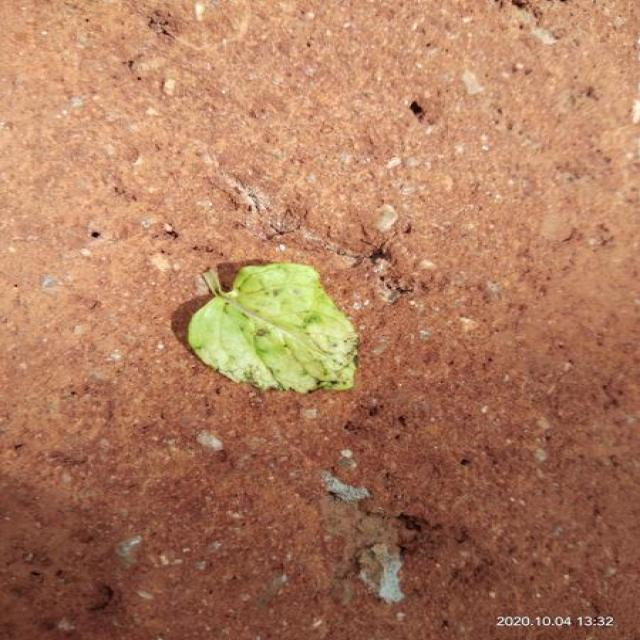mint: (188, 262, 358, 392)
